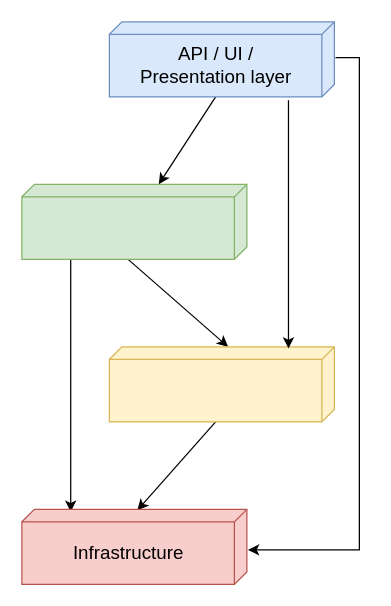
The diagram is 391 pixels wide and 606 high, and some of its shapes have lost their labels. Here are the shapes that lost their labels. From the top down, the box of each, then its label:
(21, 183, 247, 259): Application
(108, 346, 334, 422): Domain
